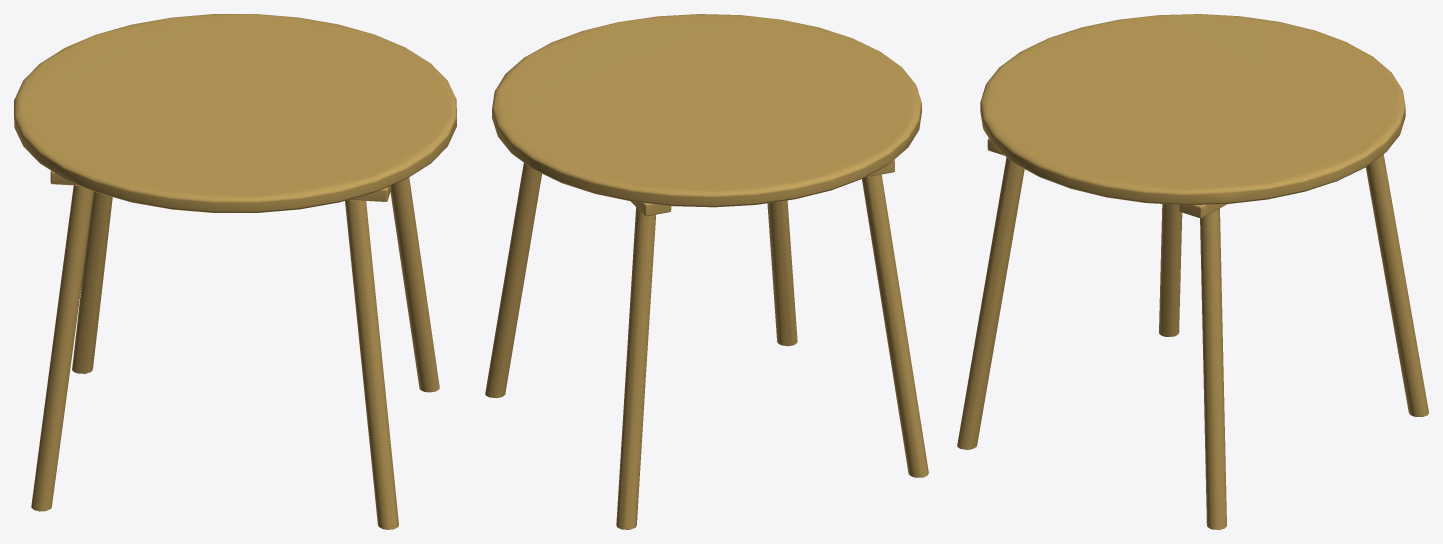
The model's file is table_LOD2.fbx.
3 views of the same model, side by side, from view 1: azimuth 30°, elevation 25°; view 2: azimuth 150°, elevation 25°; view 3: azimuth 270°, elevation 25° (orthographic). The views are drawn at different scales.
Parts seen in each view (by area): view 1: table; view 2: table; view 3: table.
Boxes of the visible parts, x1,y1,x2,y2 form: table: (14,14,456,529); table: (485,14,928,529); table: (957,14,1428,529).
Size of the model in its own units: 271 by 206 by 269.
